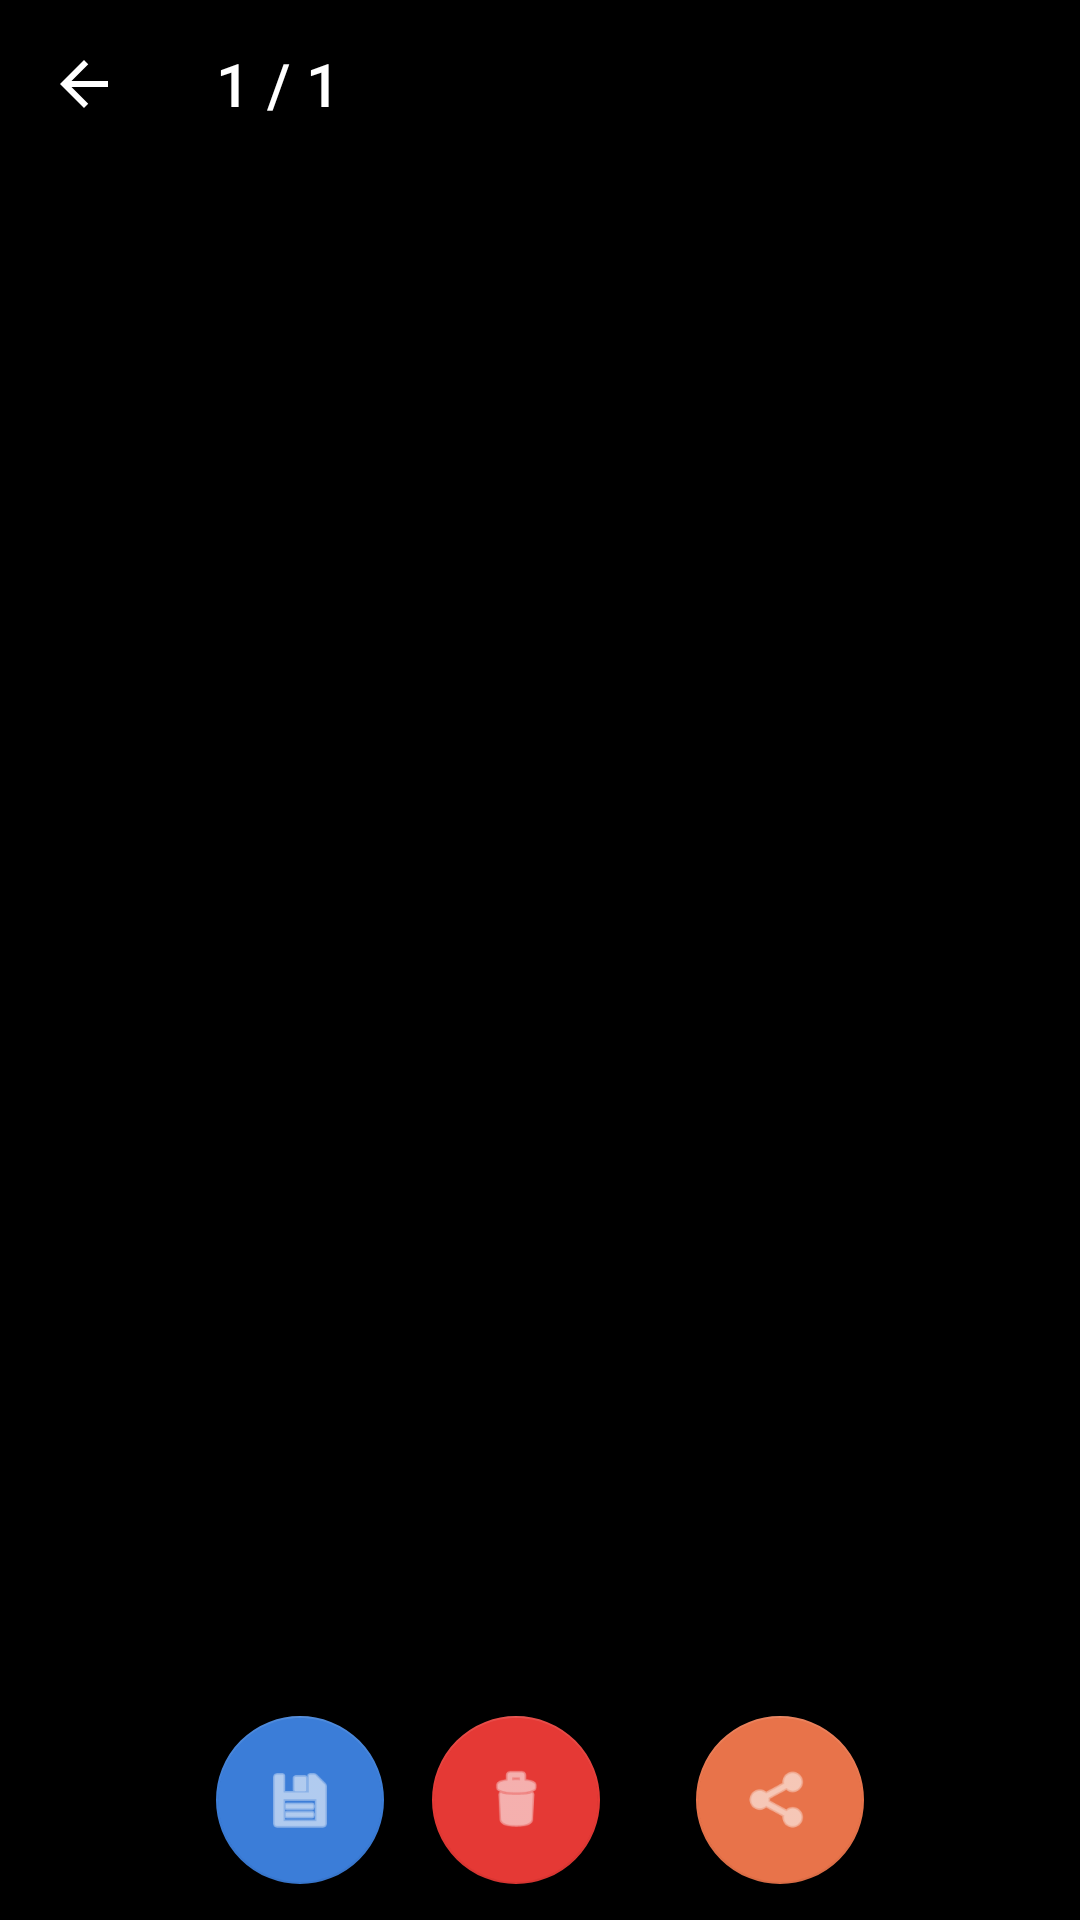

Point at icon controls on the screen. Image size 1080*1920, points as (x,y).
下载照片: (300,1800)
分享照片: (780,1800)
删除照片: (516,1800)
